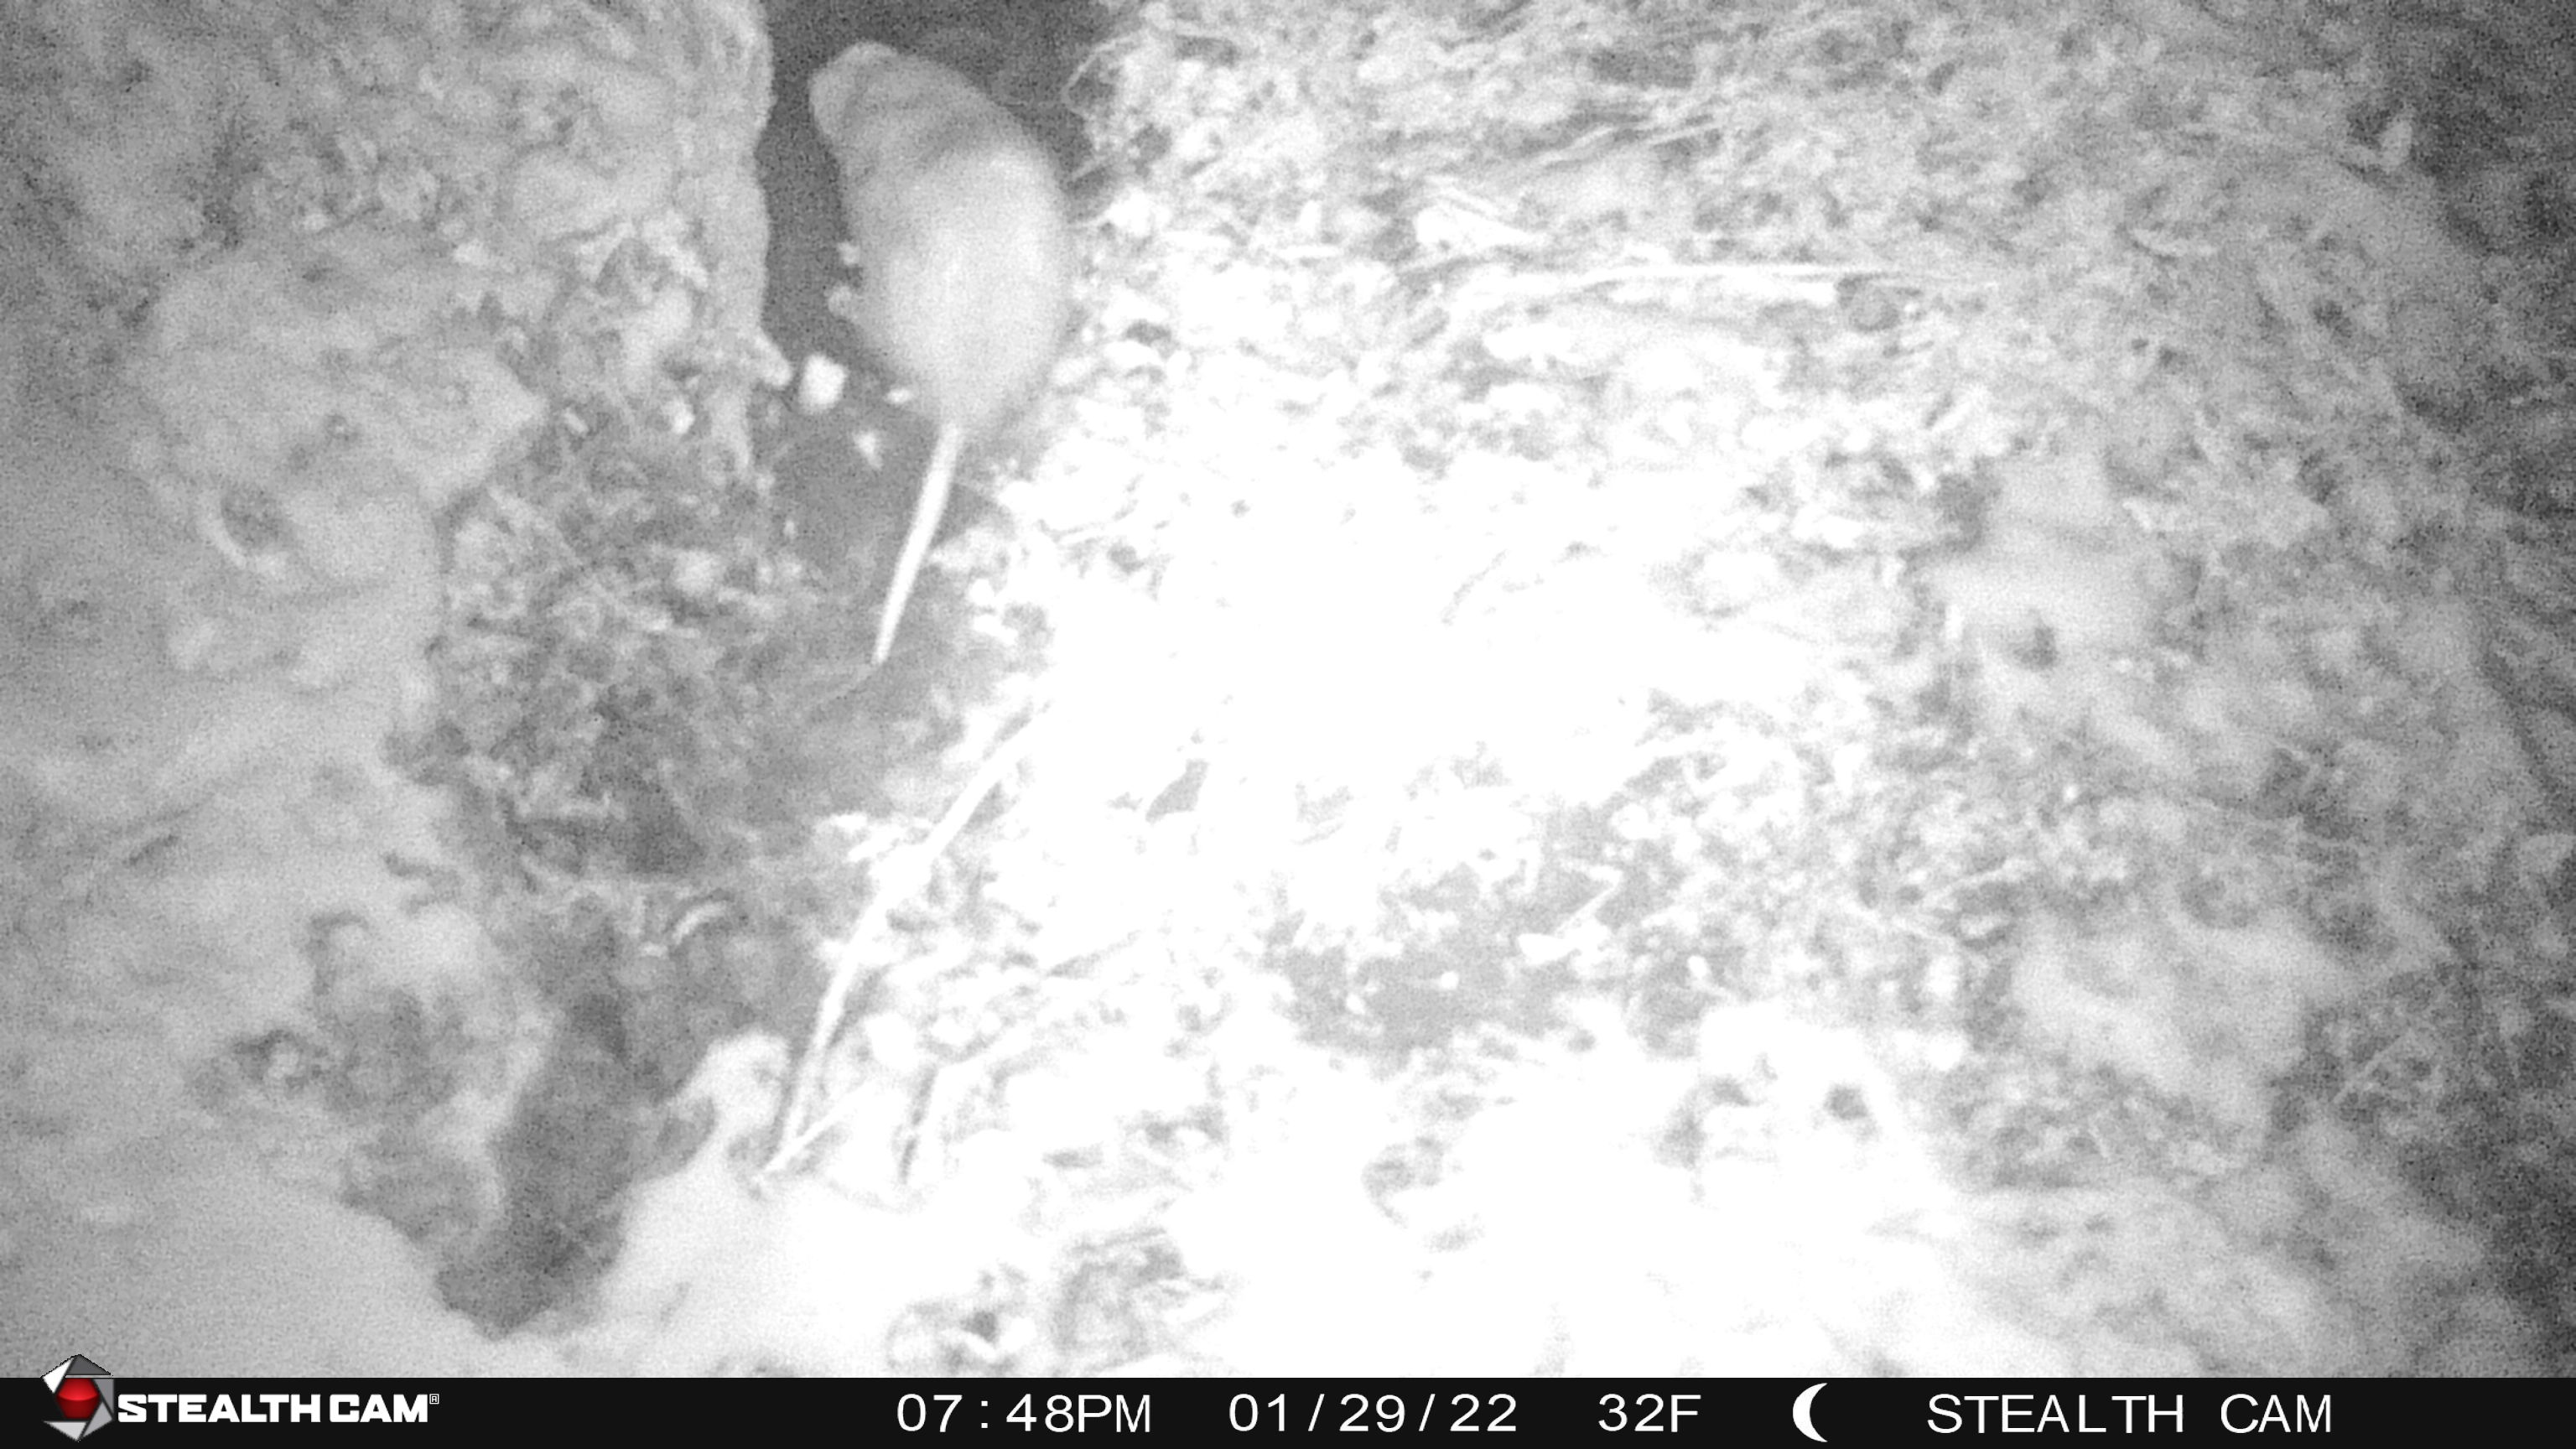Possum: (805, 39, 1076, 667)
